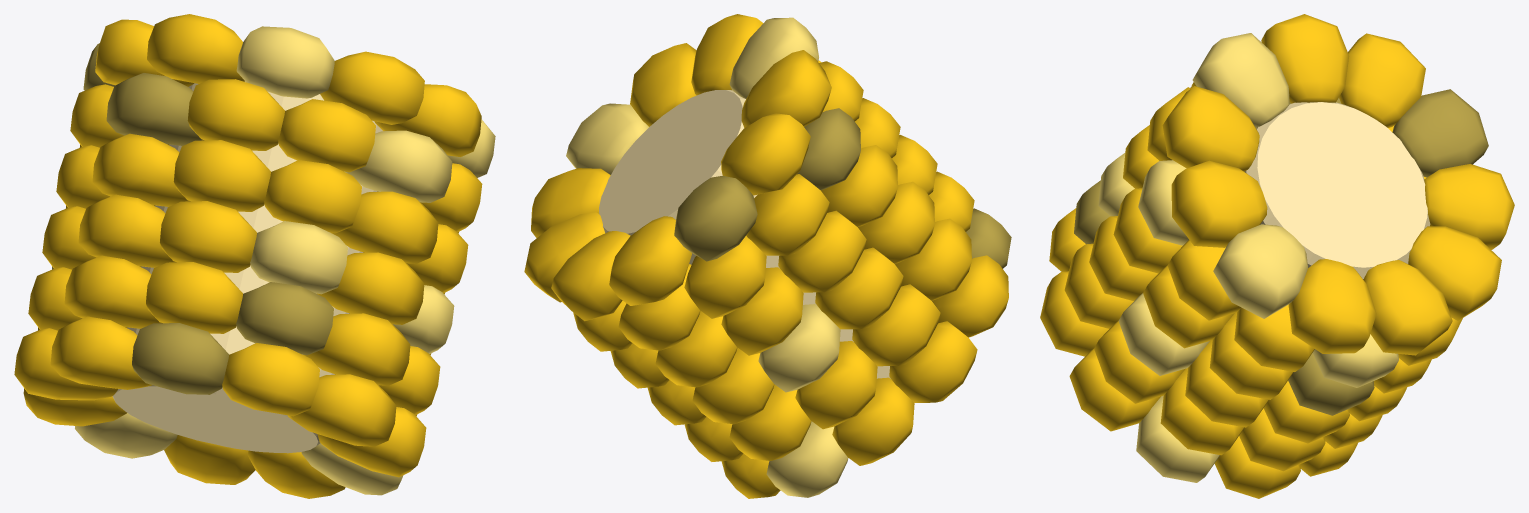
The model's file is corn.glb.
3 views of the same model, side by side, from view 1: azimuth 30°, elevation 25°; view 2: azimuth 150°, elevation 25°; view 3: azimuth 270°, elevation 25° (orthographic). The views are drawn at different scales.
Visible parts, largest first — view 1: Corn; view 2: Corn; view 3: Corn.
Part boxes in pixels (left/top/right/bottom): Corn: left=14, top=14, right=495, bottom=498; Corn: left=524, top=14, right=1011, bottom=498; Corn: left=1040, top=14, right=1514, bottom=498.
Size of the model in its own units: 0.7631 by 0.7731 by 0.7605.
